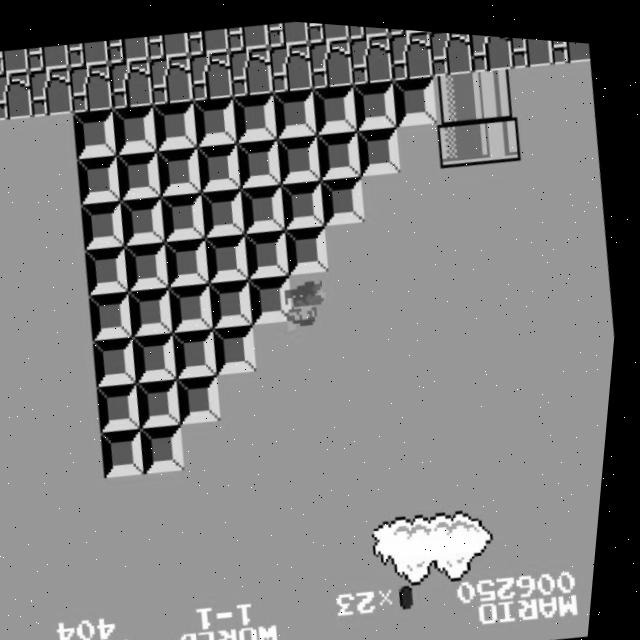11- little_mario: (282, 273, 337, 331)
14- pipe: (470, 58, 521, 113), (430, 63, 481, 118)
15- pipe_head: (475, 103, 526, 158), (435, 108, 486, 163)
17- undestructible_block: (345, 26, 397, 81), (305, 31, 357, 86), (265, 36, 317, 91), (146, 49, 198, 104), (106, 54, 158, 109), (66, 59, 118, 114), (26, 63, 78, 118), (226, 40, 277, 95), (384, 23, 436, 76), (186, 45, 237, 99), (425, 25, 476, 72), (464, 27, 515, 67), (0, 68, 37, 122), (505, 30, 555, 62), (225, 17, 271, 50), (185, 22, 231, 55), (105, 31, 151, 64), (65, 36, 111, 69), (145, 27, 191, 59), (25, 41, 71, 73), (264, 15, 310, 45), (545, 32, 591, 57), (0, 46, 32, 78), (305, 18, 350, 40), (344, 20, 389, 36), (385, 22, 429, 31)
9- hard_block: (350, 72, 402, 127), (315, 122, 367, 177), (270, 81, 322, 136), (245, 222, 297, 277), (235, 131, 287, 186), (230, 86, 282, 141), (205, 227, 257, 282), (195, 136, 247, 191), (165, 232, 217, 287), (155, 140, 207, 195), (125, 236, 177, 291), (71, 105, 123, 160), (320, 168, 372, 222), (310, 77, 362, 131), (285, 218, 337, 272), (275, 127, 327, 181), (240, 177, 292, 231), (200, 182, 252, 236), (190, 91, 242, 145), (160, 187, 212, 241), (144, 419, 196, 473), (104, 423, 156, 477), (90, 287, 142, 341), (85, 241, 137, 295), (390, 67, 441, 122), (355, 117, 406, 172), (215, 318, 266, 373), (151, 95, 202, 150), (140, 372, 191, 427), (135, 327, 186, 382), (116, 145, 167, 200), (111, 100, 162, 155), (100, 377, 151, 432), (95, 332, 146, 387), (76, 150, 127, 205), (280, 173, 332, 226), (250, 268, 301, 322), (210, 273, 261, 327), (180, 368, 231, 422), (175, 323, 226, 377), (130, 282, 181, 336), (121, 191, 172, 245), (81, 196, 132, 250), (170, 278, 221, 331)
